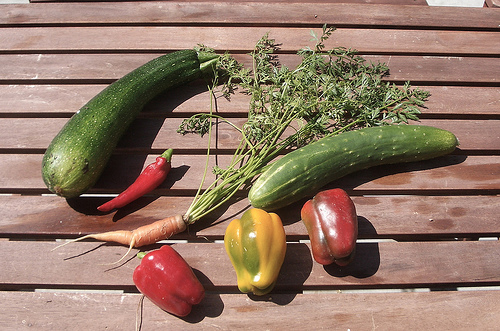cucumber: (40, 45, 228, 200), (244, 121, 461, 214)
